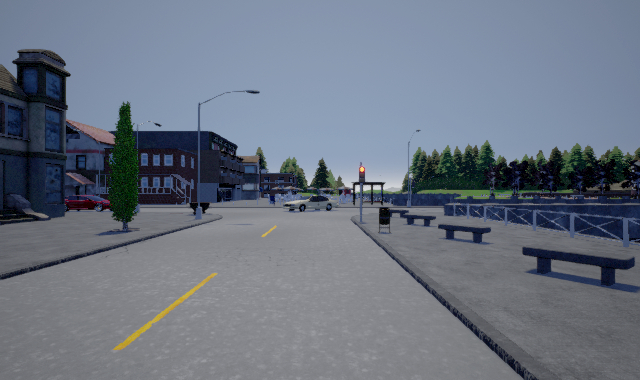traffic_light: (359, 167, 366, 182)
vehicle: (282, 195, 339, 212), (65, 195, 112, 212)
